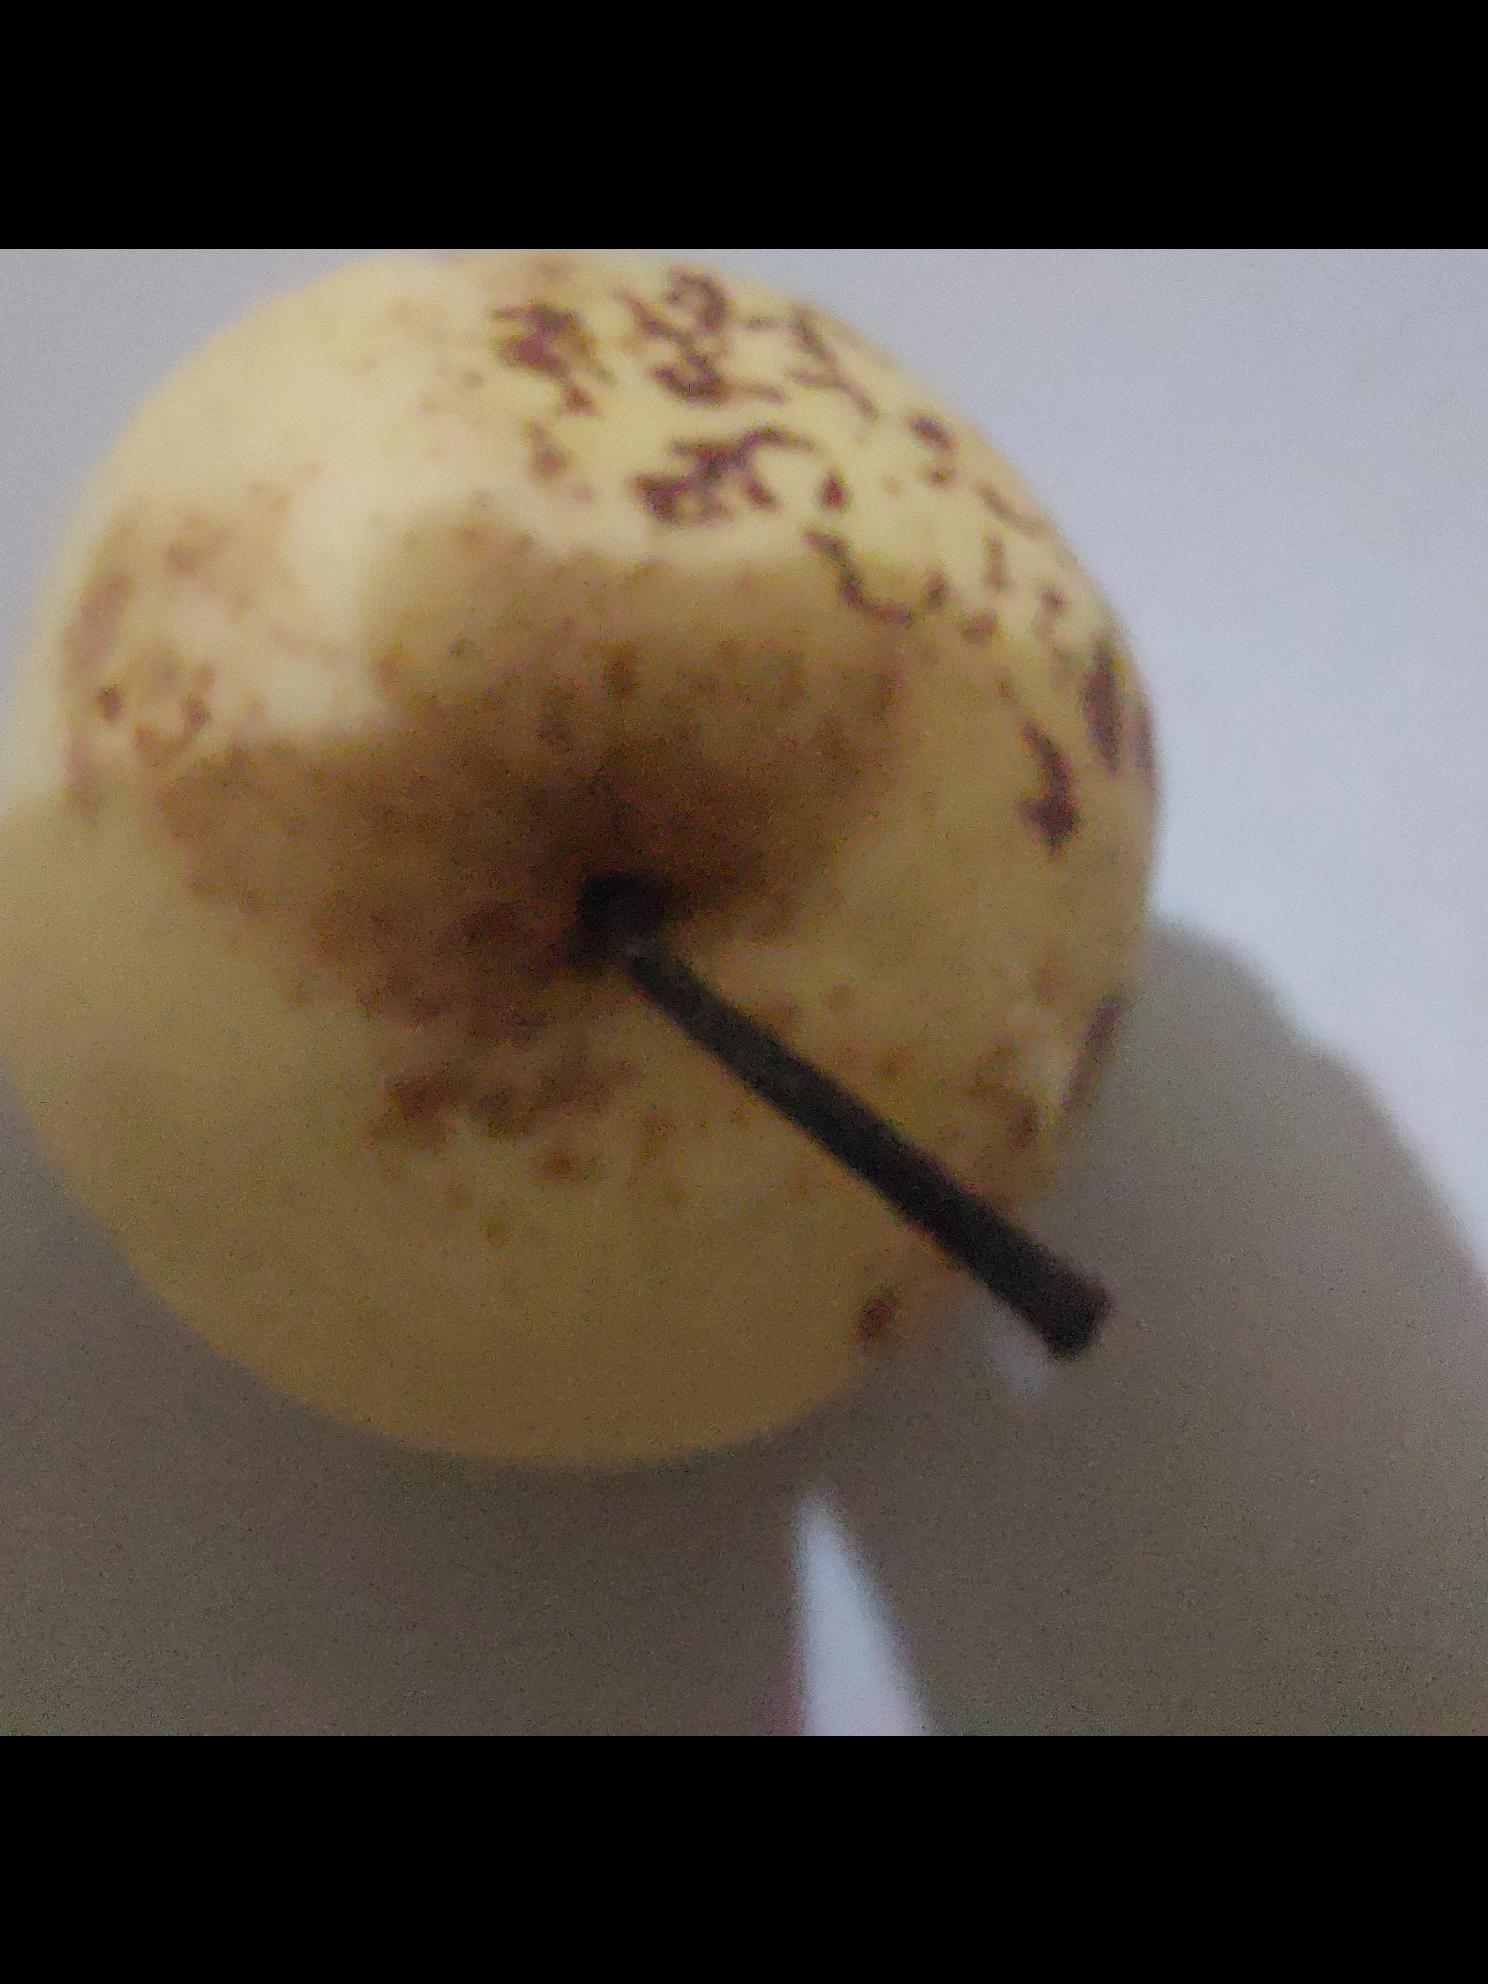Bad Pear: (0, 248, 1218, 1484)
